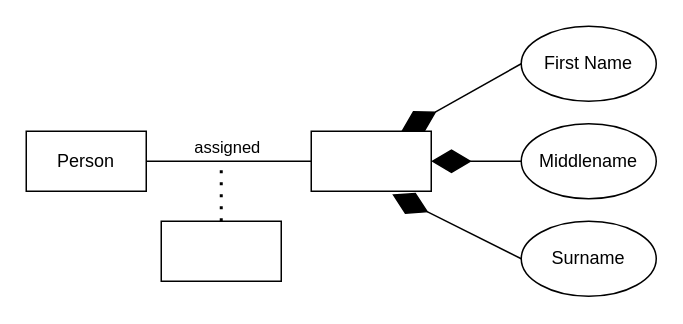
Image size: 683x324. Some labels were removed from this diagram. Each missing label, with the centre of its shape:
"Name Identifier" goes at (370,160).
"Person Name Identifier" goes at (220,250).
